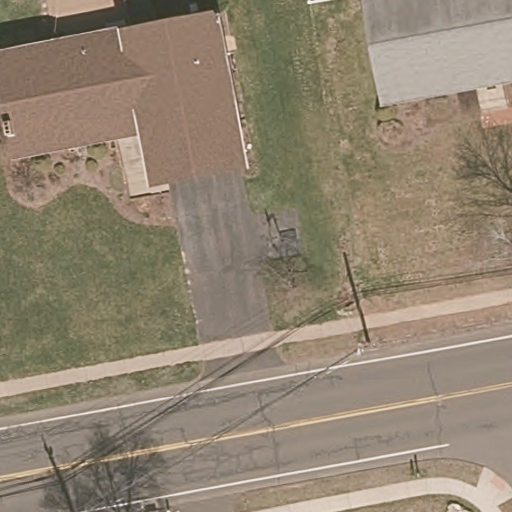DT: (342, 338, 380, 362)
